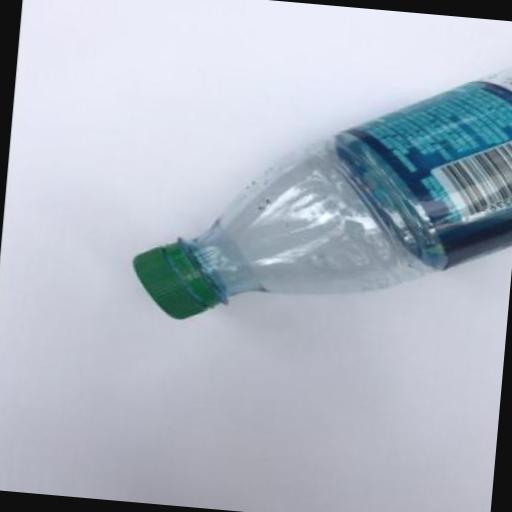plastic: (126, 29, 512, 346), (319, 66, 512, 276), (126, 236, 232, 323)
